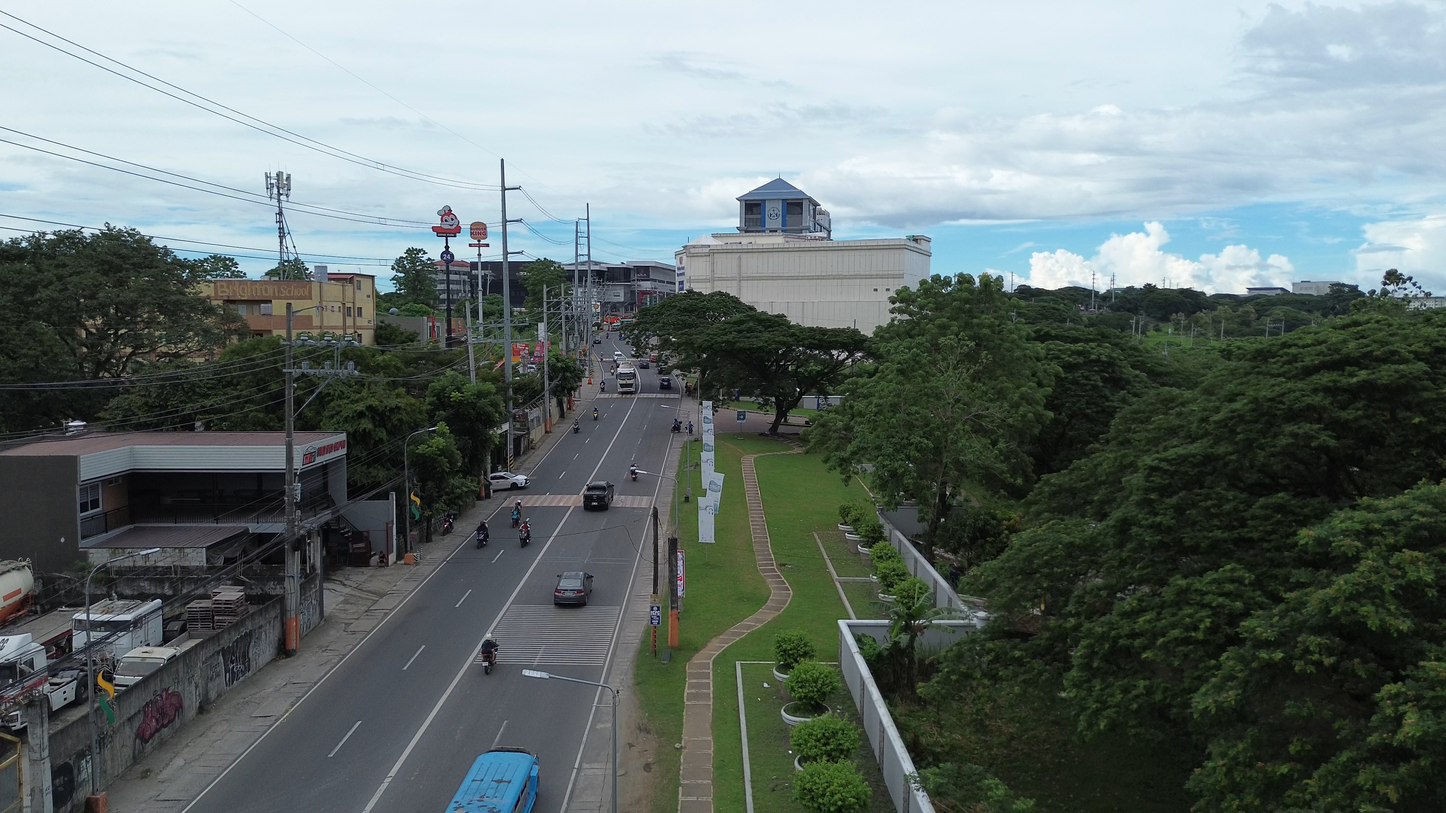car: (554, 571, 593, 605), (489, 472, 529, 490), (658, 376, 671, 389), (637, 359, 650, 368), (592, 336, 602, 344)
motorcycle: (475, 527, 489, 548), (442, 512, 454, 536), (519, 524, 530, 547), (511, 508, 520, 528), (629, 466, 638, 481), (671, 419, 680, 432), (572, 419, 580, 433), (593, 407, 598, 419)
truck: (0, 634, 81, 729)
vehicle: (445, 746, 537, 813), (0, 634, 81, 710), (72, 599, 163, 653), (113, 646, 182, 690), (0, 560, 34, 623), (583, 481, 615, 509), (479, 636, 499, 674), (616, 364, 638, 394), (441, 512, 455, 536), (613, 351, 625, 364), (629, 464, 638, 481), (648, 352, 658, 362), (573, 419, 580, 432), (593, 407, 598, 419)
